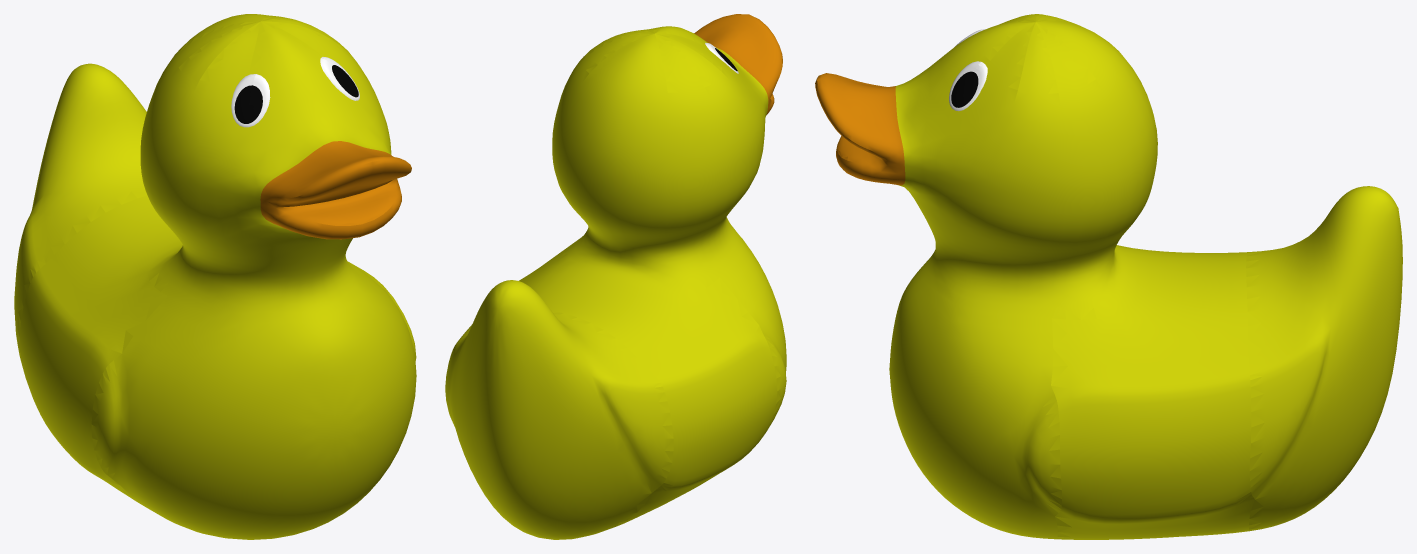
Rendered from rubber_duck.fbx.
3 views of the same model, side by side, from view 1: azimuth 30°, elevation 25°; view 2: azimuth 150°, elevation 25°; view 3: azimuth 270°, elevation 25° (orthographic). The views are drawn at different scales.
Visible parts, largest first — view 1: Sphere03, Sphere12, Sphere11; view 2: Sphere03; view 3: Sphere03, Sphere11.
Part boxes in pixels (x1=…): Sphere03: x1=14, y1=14, x2=416, y2=539; Sphere12: x1=231, y1=74, x2=270, y2=127; Sphere11: x1=320, y1=57, x2=359, y2=100; Sphere03: x1=445, y1=14, x2=786, y2=539; Sphere03: x1=815, y1=14, x2=1402, y2=539; Sphere11: x1=949, y1=61, x2=987, y2=111.
Size of the model in its own units: 892 by 1381 by 1472.
